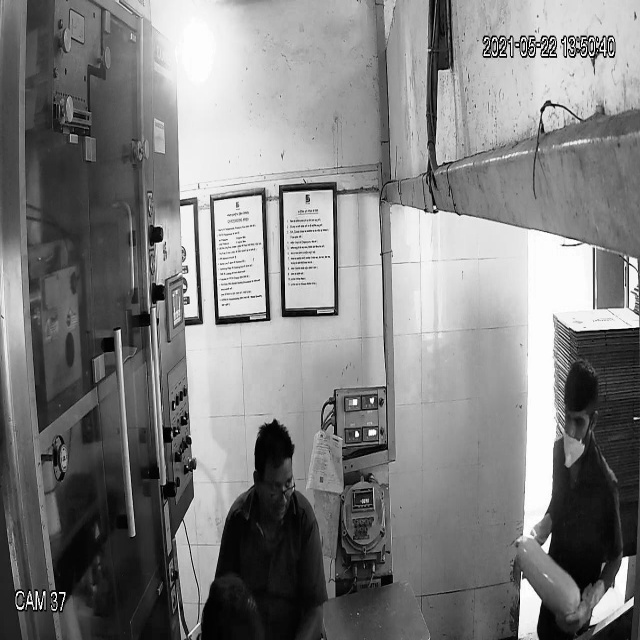Gafas: (256, 472, 297, 508)
Sin_gafas: (563, 406, 595, 436)
